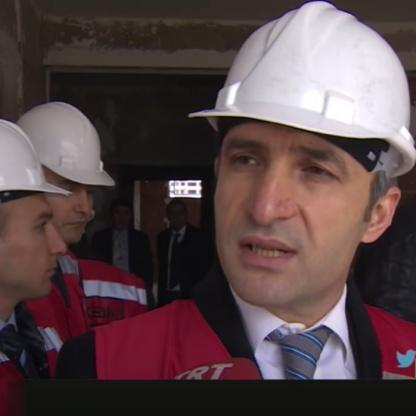helmet: (192, 0, 415, 315), (0, 103, 61, 316)
